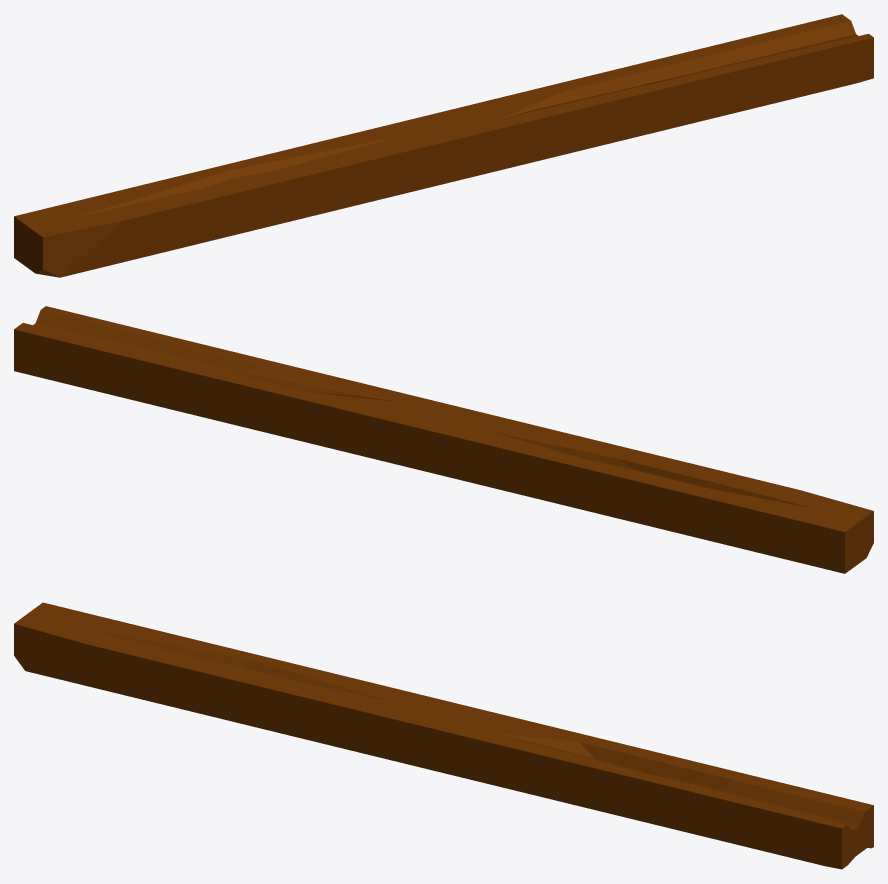
The model's file is Interior_Beam2.fbx.
3 views of the same model, one above another, from view 1: azimuth 30°, elevation 25°; view 2: azimuth 150°, elevation 25°; view 3: azimuth 330°, elevation 25° (orthographic).
Visible parts, largest first — view 1: Interior_Beam2; view 2: Interior_Beam2; view 3: Interior_Beam2.
Part boxes in pixels (<box>): Interior_Beam2: <box>14,14,873,277</box>; Interior_Beam2: <box>14,306,873,573</box>; Interior_Beam2: <box>14,602,873,869</box>.
Bounding box in the file's own units: 200 × 9.6 × 13.31.
